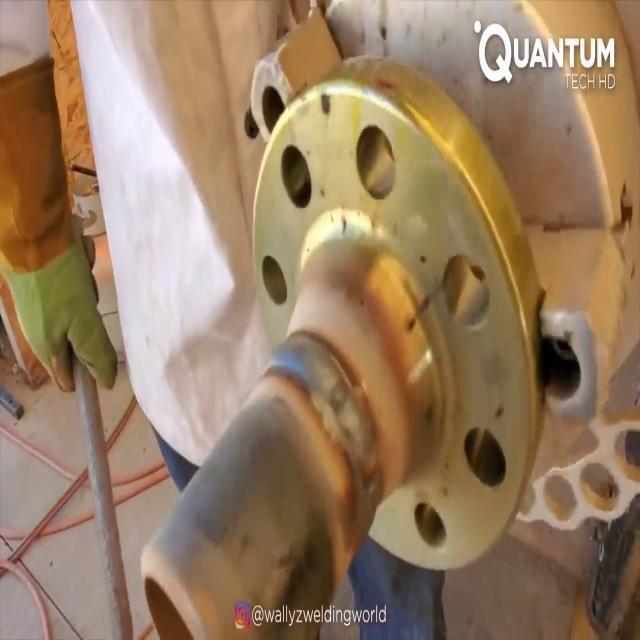Good Weld: (281, 338, 384, 492)
